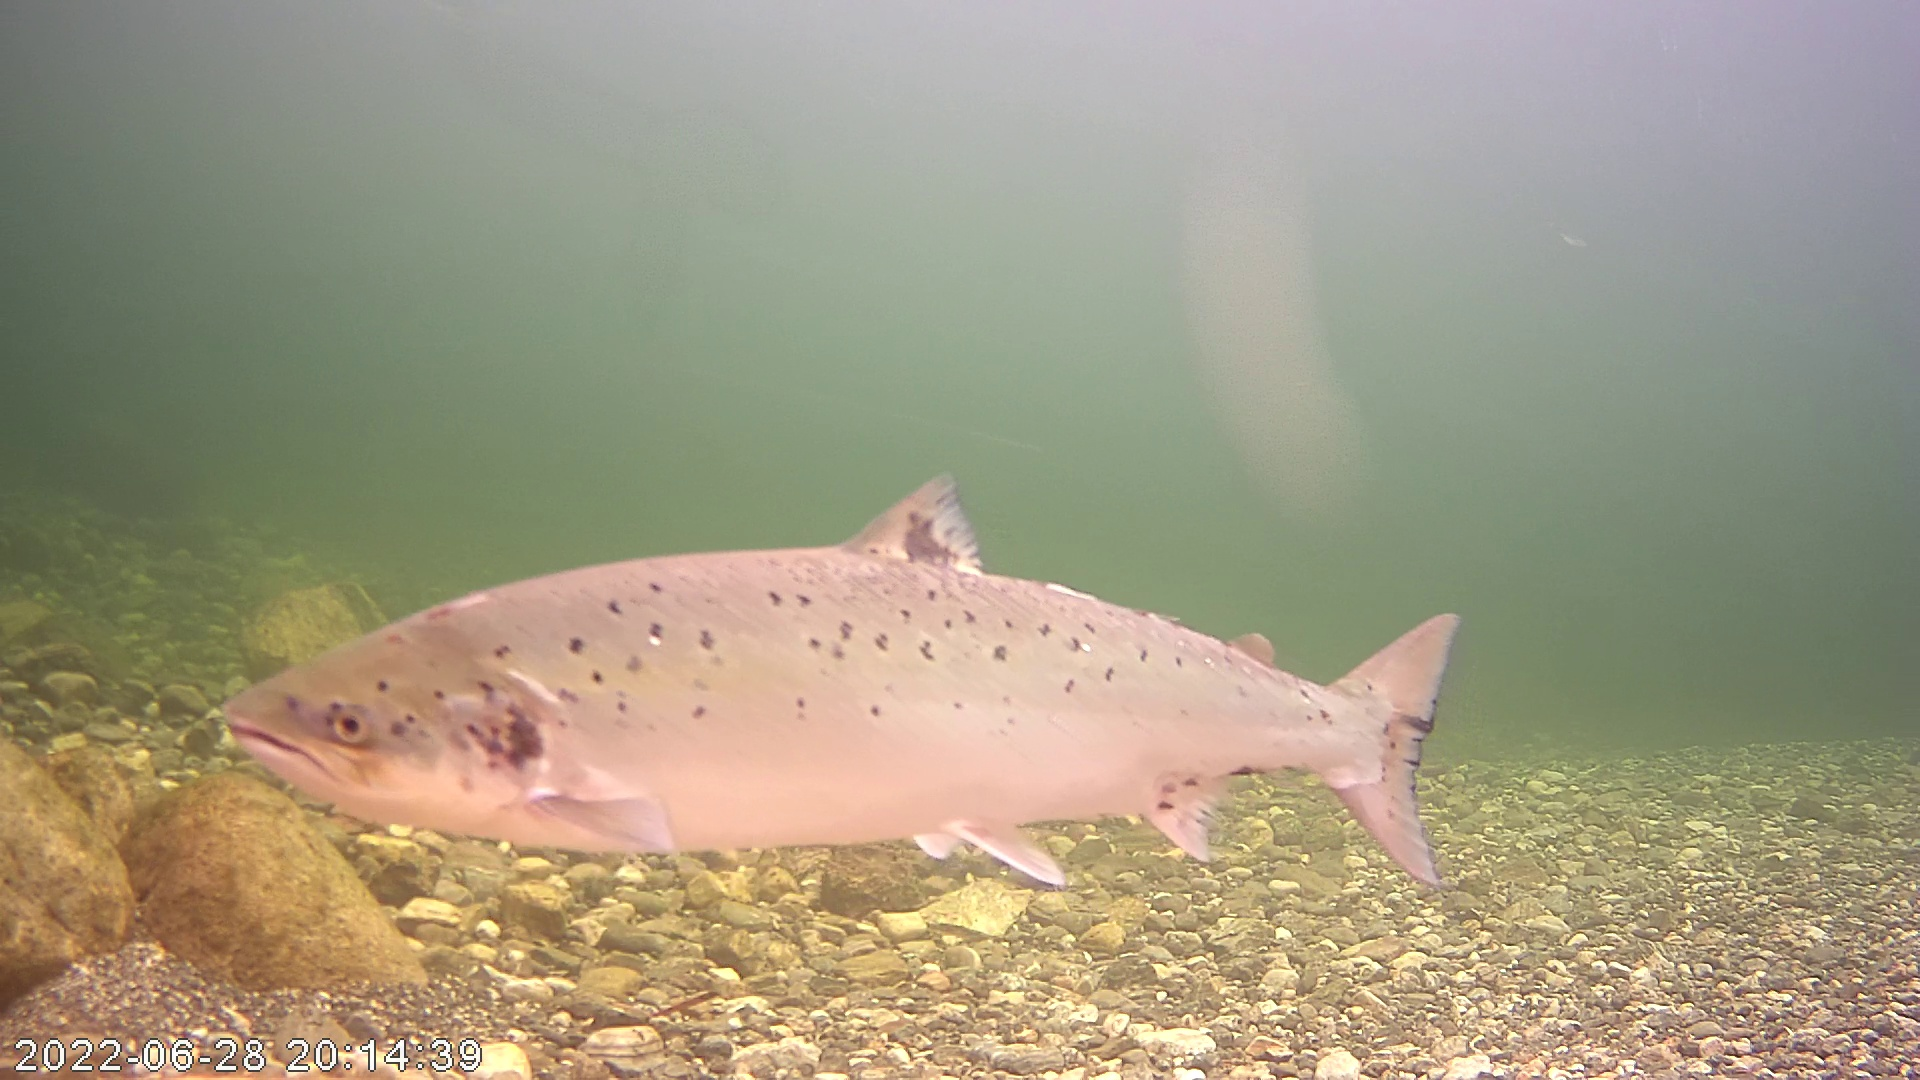salmon: (320, 429, 1480, 878)
